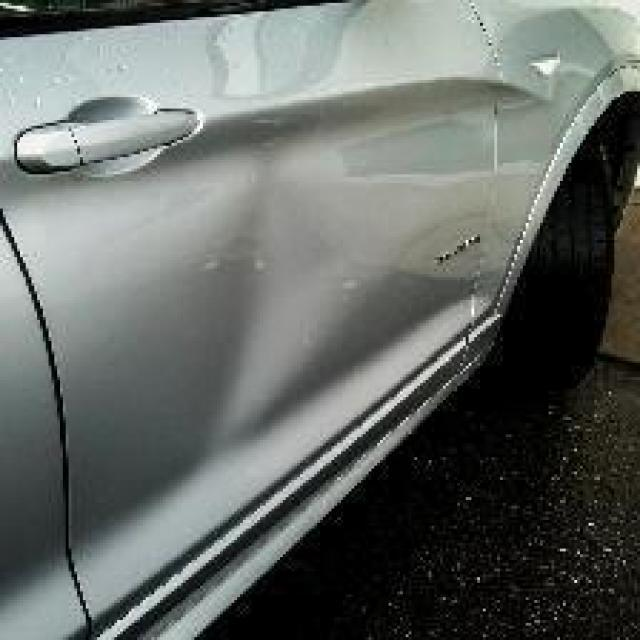damaged: (172, 14, 637, 483)
